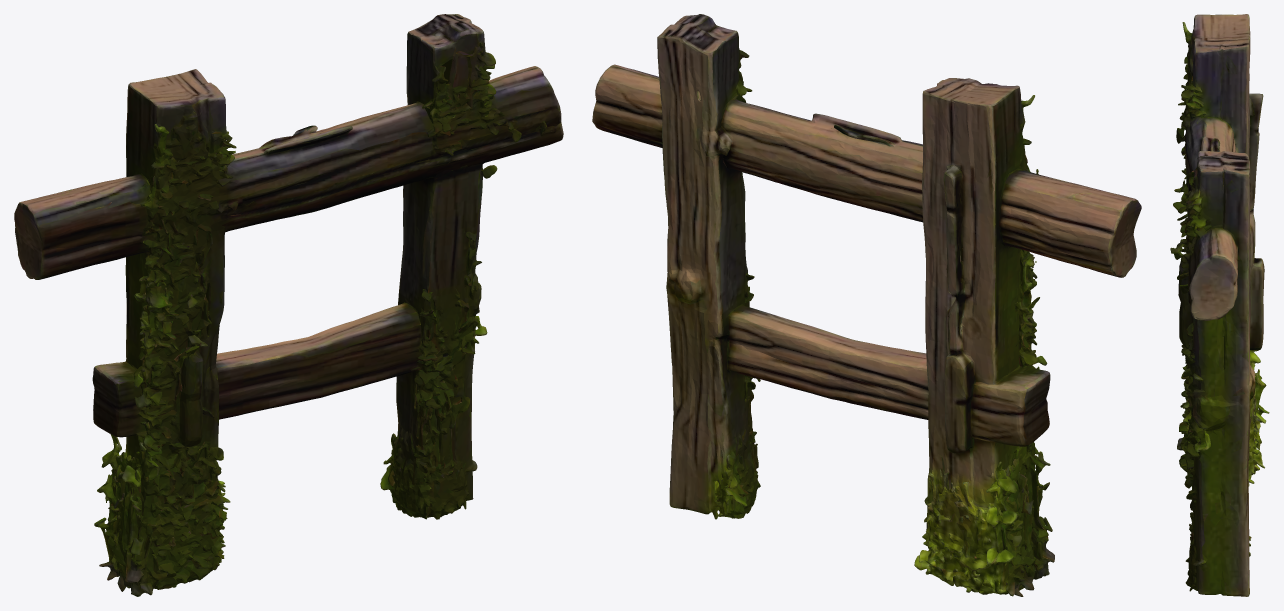
File: village_fence_broken_01.glb
3 views of the same model, side by side, from view 1: azimuth 30°, elevation 25°; view 2: azimuth 150°, elevation 25°; view 3: azimuth 270°, elevation 25° (orthographic). The views are drawn at different scales.
Parts seen in each view (by area): view 1: geometry_0; view 2: geometry_0; view 3: geometry_0.
Part boxes in pixels (x1,y1,x2,y2): geometry_0: (14, 14, 563, 596); geometry_0: (592, 14, 1141, 596); geometry_0: (1170, 14, 1269, 596).
Bounding box in the file's own units: 1 × 0.8877 × 0.1769.
1 material, 1 textured.
